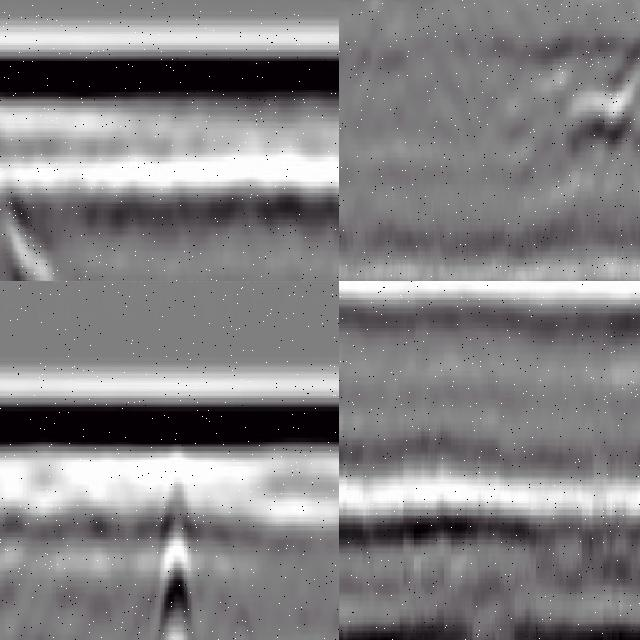crack: (160, 445, 193, 640)
loose: (1, 151, 152, 282), (553, 59, 640, 158)
